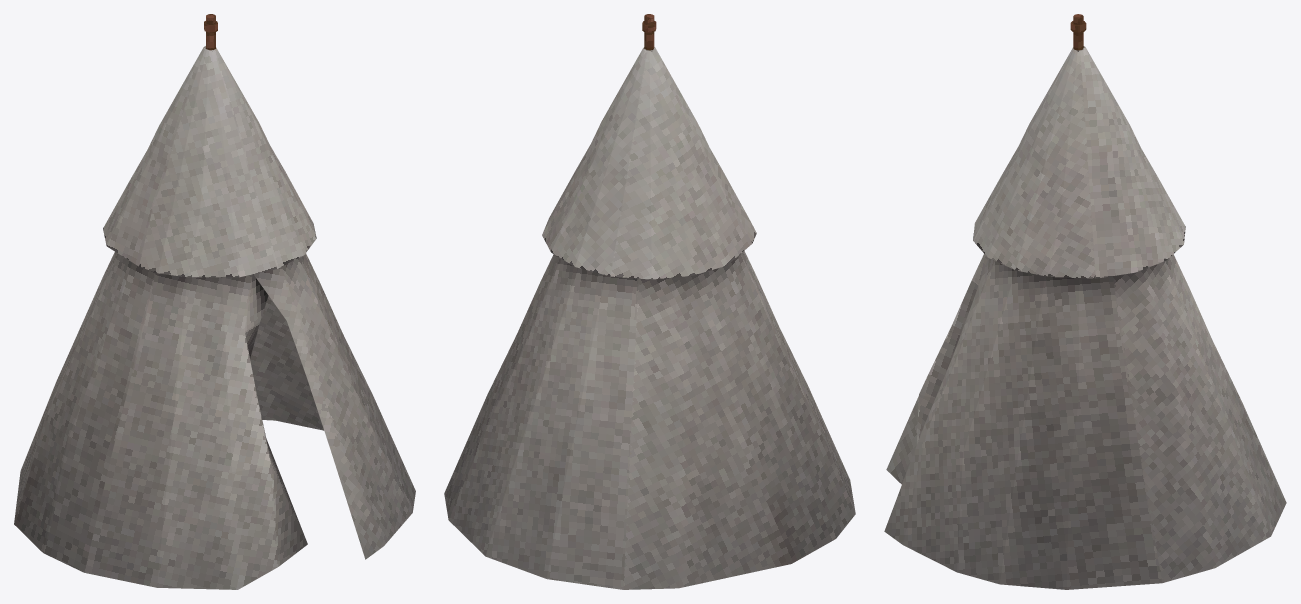
File: Tent_1.gltf
3 renders of one model, left to right at view 1: azimuth 30°, elevation 25°; view 2: azimuth 150°, elevation 25°; view 3: azimuth 270°, elevation 25°, orthographic.
Visible parts, largest first — view 1: Tent_1; view 2: Tent_1; view 3: Tent_1.
Part boxes in pixels (left/top/right/bottom): Tent_1: left=14, top=14, right=415, bottom=589; Tent_1: left=444, top=14, right=855, bottom=589; Tent_1: left=884, top=14, right=1286, bottom=589.
Bounding box in the file's own units: 5.69 × 7.49 × 5.59.
Materials: 1 (1 with a texture image).
